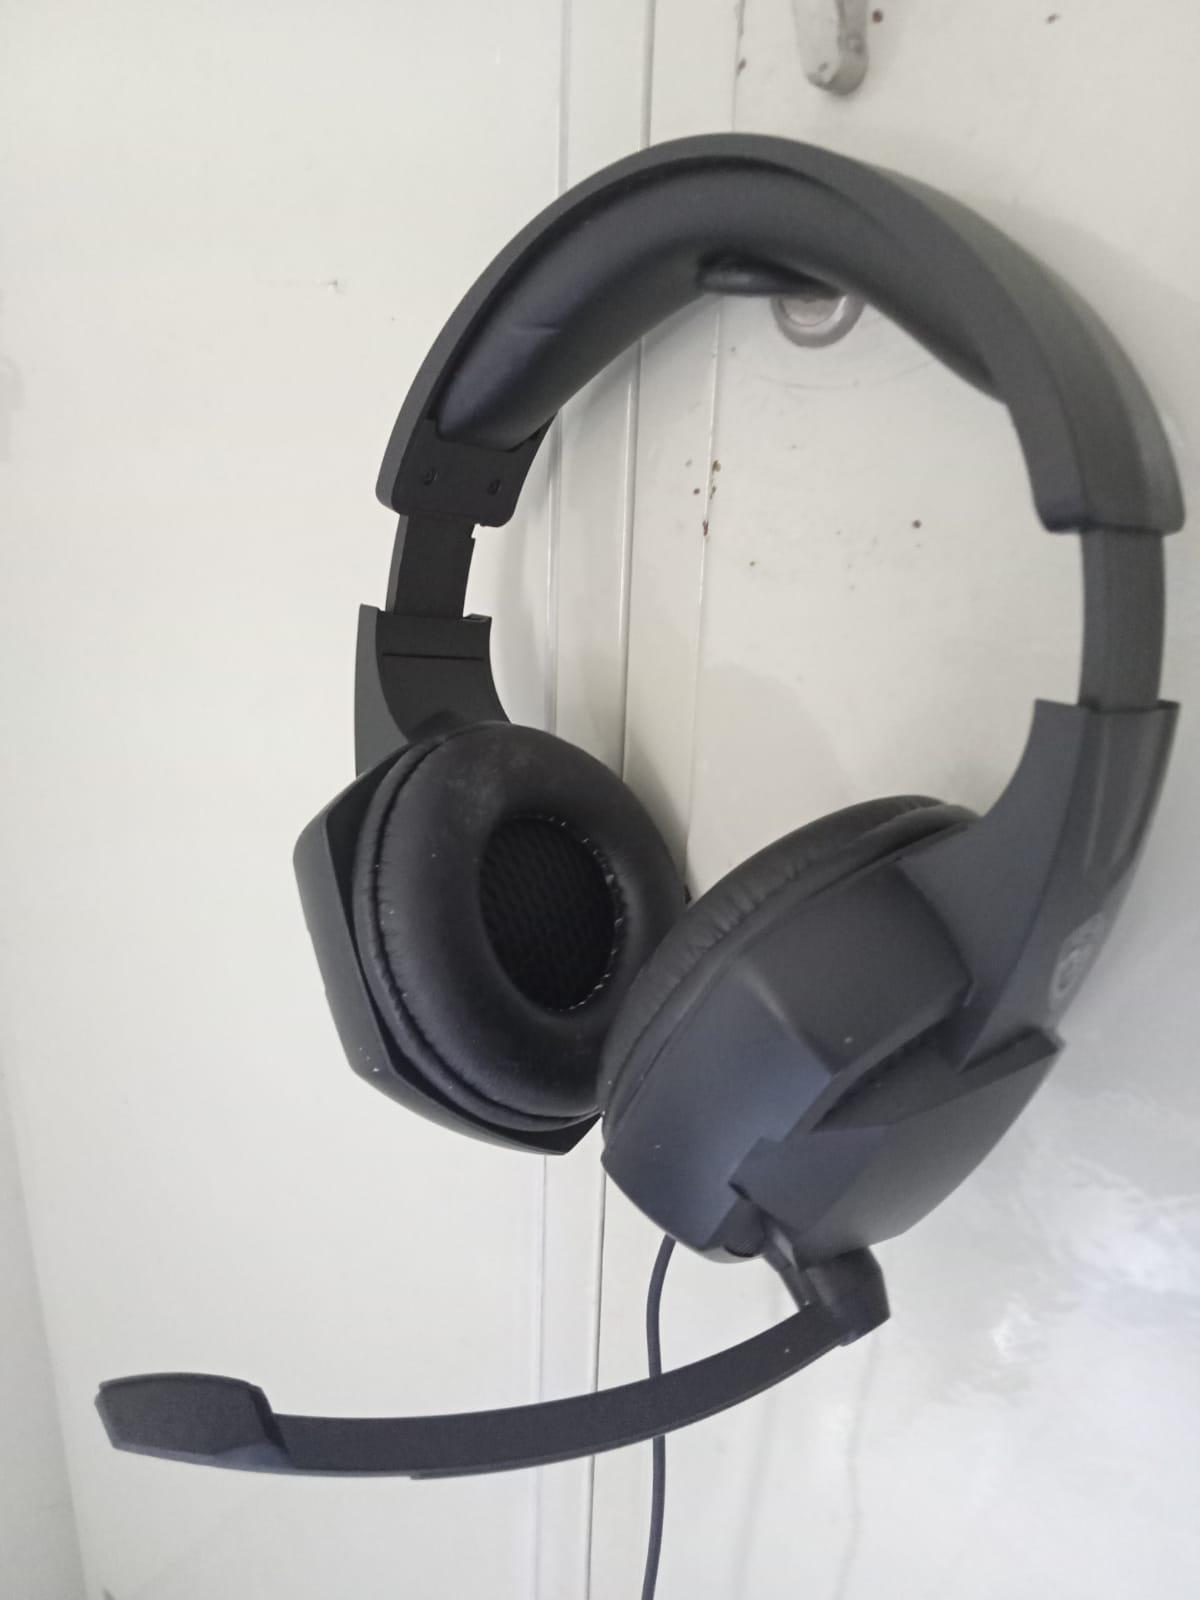Headset: (82, 126, 1179, 1500)
